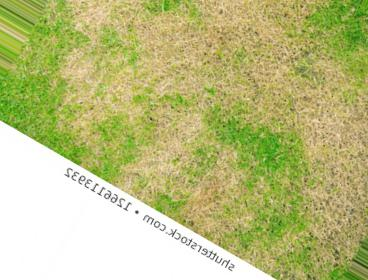patch: (298, 94, 350, 178), (179, 28, 229, 83), (246, 33, 286, 95), (307, 190, 341, 239), (142, 33, 169, 76), (197, 194, 227, 225), (89, 3, 112, 26), (150, 149, 175, 167), (74, 62, 96, 78)
